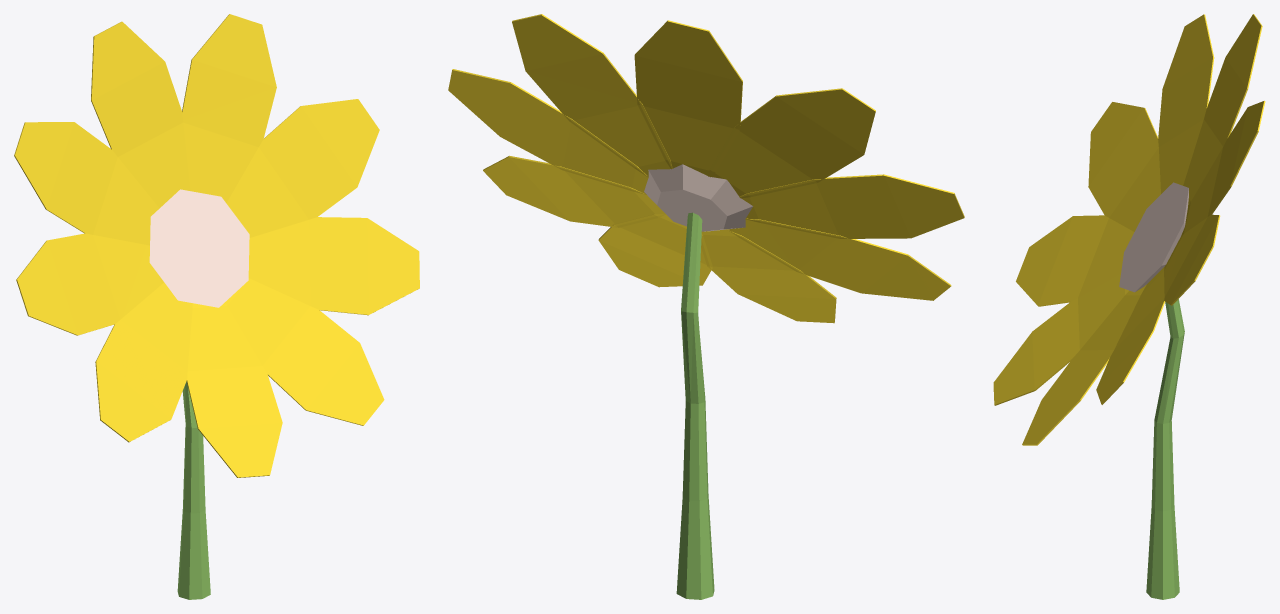
The model's file is flower02_yellow.fbx.
3 renders of one model, left to right at view 1: azimuth 30°, elevation 25°; view 2: azimuth 150°, elevation 25°; view 3: azimuth 270°, elevation 25°, orthographic. The views are drawn at different scales.
Parts seen in each view (by area): view 1: flower02_yellow_LOD0; view 2: flower02_yellow_LOD0; view 3: flower02_yellow_LOD0.
Boxes of the visible parts, bbox=[...] form: flower02_yellow_LOD0: bbox=[14, 14, 419, 599]; flower02_yellow_LOD0: bbox=[448, 14, 964, 599]; flower02_yellow_LOD0: bbox=[993, 14, 1265, 599].
Size of what is drawn, in the model's own units: 76.59 by 97.27 by 43.24.
